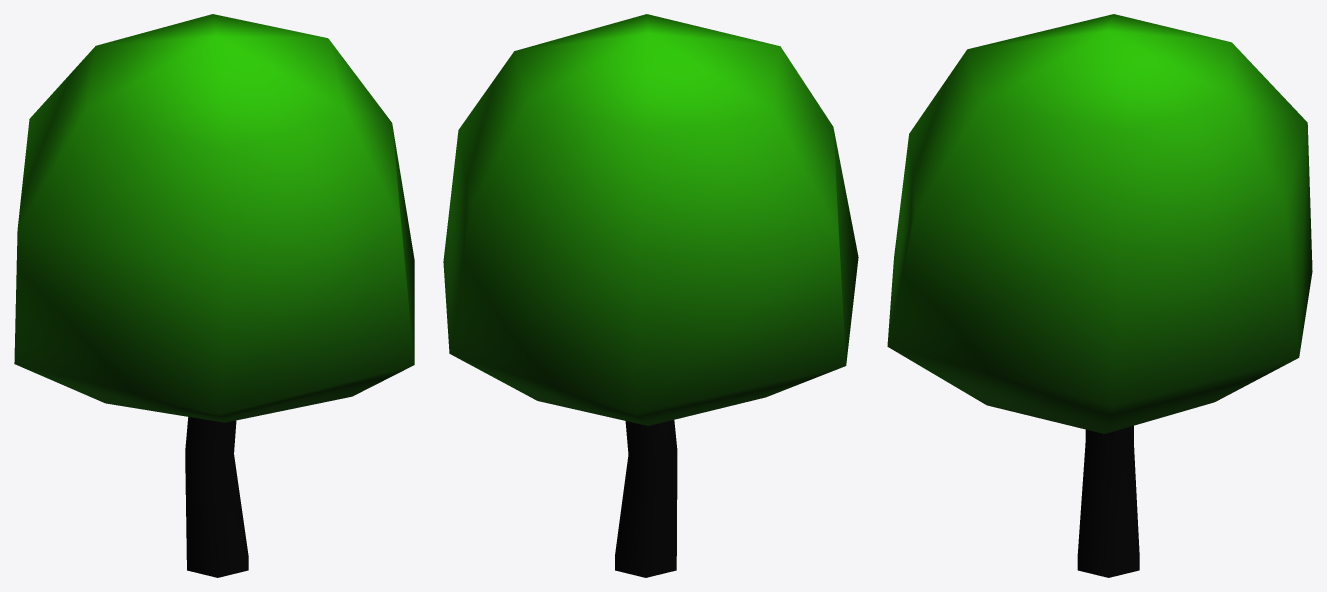
File: Universal_Plant_Tree_05_Mod.fbx
The picture shows the model from 3 angles, left to right: view 1: azimuth 30°, elevation 25°; view 2: azimuth 150°, elevation 25°; view 3: azimuth 270°, elevation 25°; orthographic projection.
Visible parts, largest first — view 1: Universal_Plant_Tree_05_Mod; view 2: Universal_Plant_Tree_05_Mod; view 3: Universal_Plant_Tree_05_Mod.
Boxes of the visible parts, x1,y1,x2,y2 form: Universal_Plant_Tree_05_Mod: [14, 14, 414, 577]; Universal_Plant_Tree_05_Mod: [443, 14, 858, 577]; Universal_Plant_Tree_05_Mod: [887, 14, 1312, 577].
Bounding box in the file's own units: 295 × 371 × 269.
